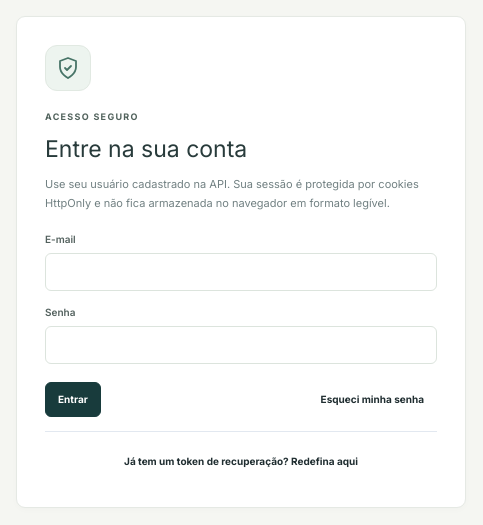
Scenario: <LoginPanel /> › switches to MFA mode when login returns MFA challenge
Type "mfa@local.test" into the field labelled "E-mail" at (241, 272), box [45,253,437,291]
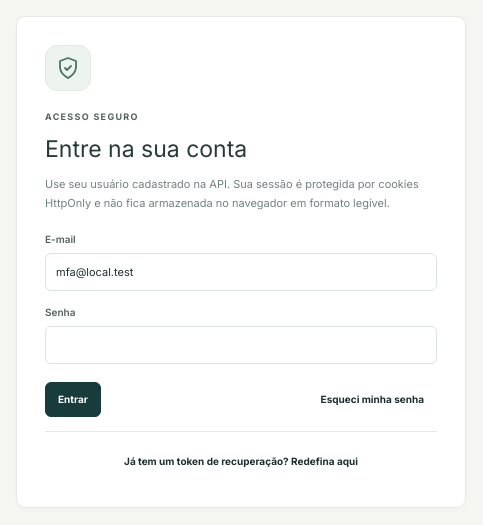
Type "SecretPass123!" into the password field labelled "Senha" at (241, 345), box [45,326,437,364]
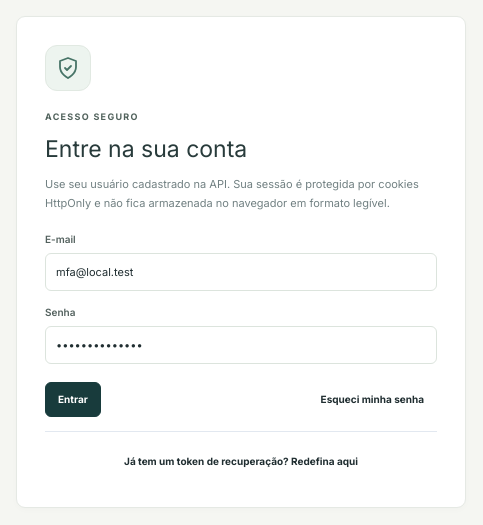
Click the button "Entrar" at (73, 400), box [45,382,101,417]
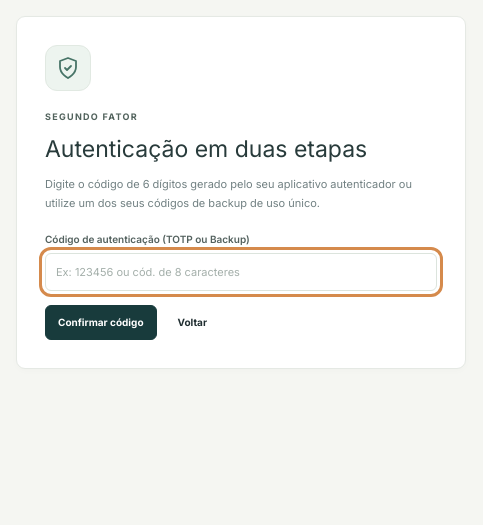
Expected: the field labelled "Código de autenticação (TOTP ou Backup)" is shown, [45,253,437,291]
Result: the heading "Autenticação em duas etapas" is shown at [45,134,367,162]
